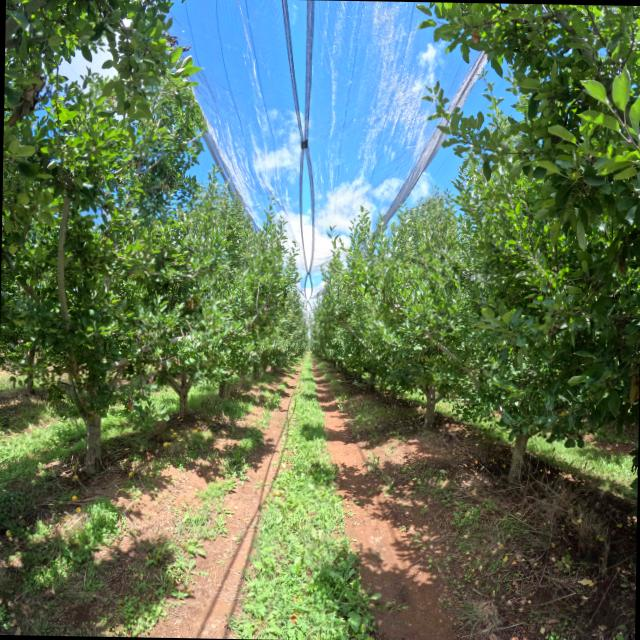-FireBlight-: (126, 355, 181, 413), (5, 71, 46, 129), (186, 297, 193, 309)
